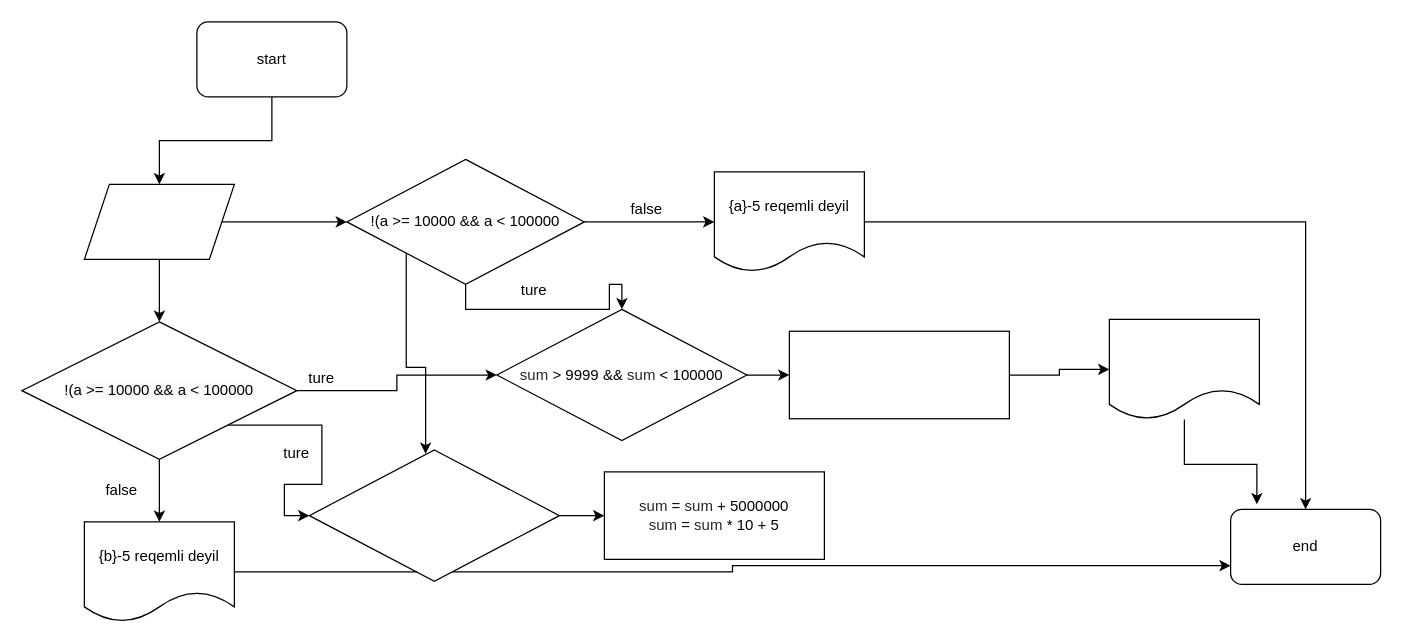
This 1403x644 diagram has some shape labels left out. The box of each missing label's shape, as (x1, y1, x2, y2) in pixels:
a = 12345 b = 54321: (83, 183, 234, 259)
sum: (1108, 318, 1259, 419)
sum = sum + 500000 sum = sum * 10 + 5: (788, 330, 1009, 419)
sum > 99999 && sum < 1000000: (308, 449, 559, 581)
